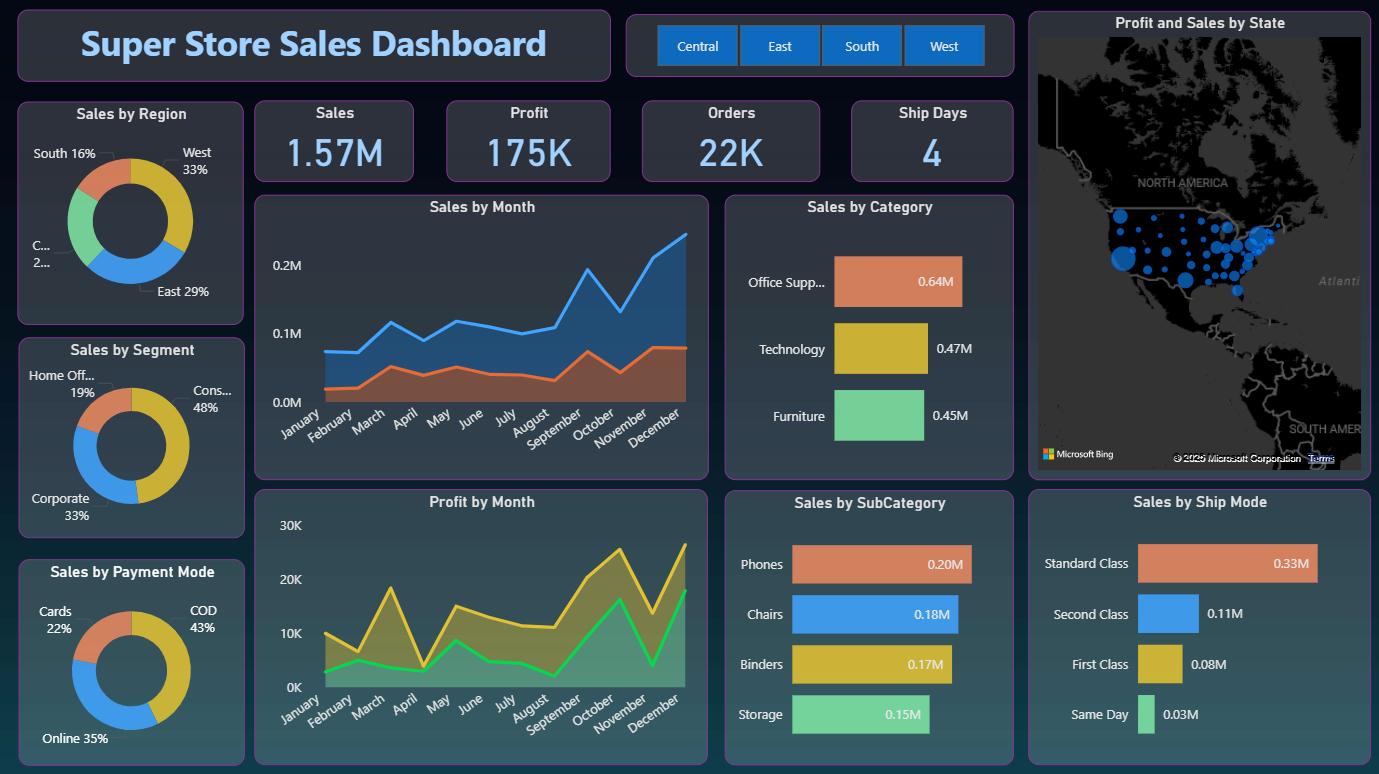

This screenshot's page, from the dashboard's own definition file:
{"tool":"powerbi","page":{"name":"Page 1","canvas":[1280,720],"ordinal":0},"visuals":[{"type":"clusteredBarChart","title":"Sales by Category","fields":{"Category":["SuperStore_Sales_Dataset (2).Category"],"Y":["Sum(SuperStore_Sales_Dataset (2).Sales)"]},"box":[672,181.7,267.7,264.5],"z":0},{"type":"clusteredBarChart","title":"Sales by SubCategory","fields":{"Y":["Sum(SuperStore_Sales_Dataset (2).Sales)"],"Category":["SuperStore_Sales_Dataset (2).Sub-Category"]},"box":[672,455.9,267.7,254.8],"z":1000},{"type":"clusteredBarChart","title":"Sales by Ship Mode","fields":{"Y":["Sum(SuperStore_Sales_Dataset (2).Sales)"],"Category":["SuperStore_Sales_Dataset (2).Ship Mode"]},"box":[952.7,454.8,317.2,255.9],"z":2000},{"type":"stackedAreaChart","title":"Sales by Month","fields":{"Y":["Sum(SuperStore_Sales_Dataset (2).Sales)"],"Series":["SuperStore_Sales_Dataset (2).Order Date.Variation.Date Hierarchy.Year"],"Category":["SuperStore_Sales_Dataset (2).Order Date.Variation.Date Hierarchy.Month"]},"box":[236.8,182.1,421.1,264.2],"z":3000},{"type":"stackedAreaChart","title":"Profit by Month ","fields":{"Series":["SuperStore_Sales_Dataset (2).Order Date.Variation.Date Hierarchy.Year"],"Category":["SuperStore_Sales_Dataset (2).Order Date.Variation.Date Hierarchy.Month"],"Y":["Sum(SuperStore_Sales_Dataset (2).Profit)"]},"box":[236.6,454.8,420.4,255.9],"z":4000},{"type":"map","title":"Profit and Sales by State","fields":{"Category":["SuperStore_Sales_Dataset (2).State"],"Size":["Sum(SuperStore_Sales_Dataset (2).Sales)"]},"box":[952.7,11.8,317.2,434.4],"z":5000},{"type":"donutChart","title":" Sales by Region","fields":{"Y":["Sum(SuperStore_Sales_Dataset (2).Sales)"],"Category":["SuperStore_Sales_Dataset (2).Region"]},"box":[17,95.8,209.8,206.6],"z":6000},{"type":"donutChart","title":" Sales by Payment Mode","fields":{"Y":["Sum(SuperStore_Sales_Dataset (2).Sales)"],"Category":["SuperStore_Sales_Dataset (2).Payment Mode"]},"box":[18.3,519.4,209.7,191.4],"z":7000},{"type":"slicer","fields":{"Values":["SuperStore_Sales_Dataset (2).Region"]},"box":[580.3,14.9,359.9,58.6],"z":8000},{"type":"textbox","box":[17,10.6,549.4,67.1],"z":9000},{"type":"card","title":"Sales ","fields":{"Values":["Sum(SuperStore_Sales_Dataset (2).Sales)"]},"box":[236.4,94.8,148,75.6],"z":10000},{"type":"card","title":"Profit","fields":{"Values":["Sum(SuperStore_Sales_Dataset (2).Profit)"]},"box":[414.2,94.8,152.3,75.6],"z":11000},{"type":"card","title":"Orders","fields":{"Values":["Sum(SuperStore_Sales_Dataset (2).Quantity)"]},"box":[595.2,94.8,165,75.6],"z":12000},{"type":"card","title":"Ship Days","fields":{"Values":["Avg(SuperStore_Sales_Dataset (2).AvgDelivery)"]},"box":[789,94.8,150.1,75.6],"z":13000},{"type":"donutChart","title":" Sales by Segment","fields":{"Category":["SuperStore_Sales_Dataset (2).Segment"],"Y":["Sum(SuperStore_Sales_Dataset (2).Sales)"]},"box":[18.3,314,209.7,186],"z":14000}]}

Visuals, with their boxes in screenshot pixels (x1, y1, x2, y2), scaled from the page's 1280x720 canvas onto the 1379x774 screenshot:
"Sales by Category" clusteredBarChart: BBox(724, 195, 1012, 480)
"Sales by SubCategory" clusteredBarChart: BBox(724, 490, 1012, 764)
"Sales by Ship Mode" clusteredBarChart: BBox(1026, 489, 1368, 764)
"Sales by Month" stackedAreaChart: BBox(255, 196, 709, 480)
"Profit by Month " stackedAreaChart: BBox(255, 489, 708, 764)
"Profit and Sales by State" map: BBox(1026, 13, 1368, 480)
" Sales by Region" donutChart: BBox(18, 103, 244, 325)
" Sales by Payment Mode" donutChart: BBox(20, 558, 246, 764)
slicer - SuperStore_Sales_Dataset (2).Region: BBox(625, 16, 1013, 79)
textbox: BBox(18, 11, 610, 84)
"Sales " card: BBox(255, 102, 414, 183)
"Profit" card: BBox(446, 102, 610, 183)
"Orders" card: BBox(641, 102, 819, 183)
"Ship Days" card: BBox(850, 102, 1012, 183)
" Sales by Segment" donutChart: BBox(20, 338, 246, 538)
